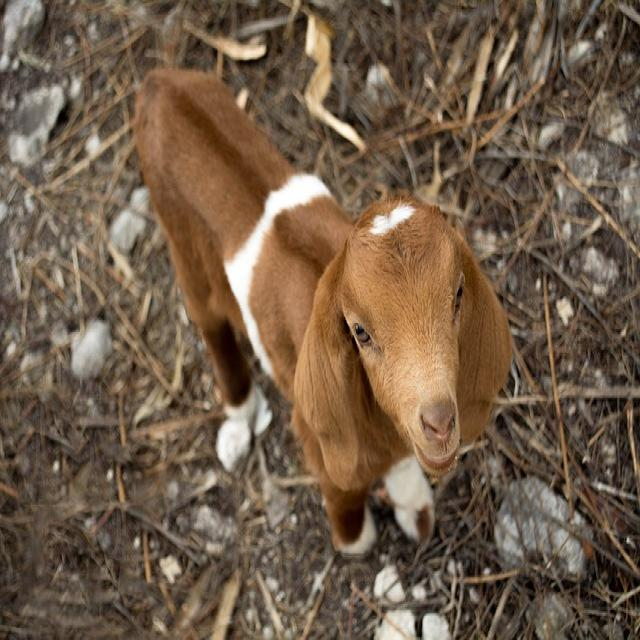goat: (132, 68, 515, 562)
